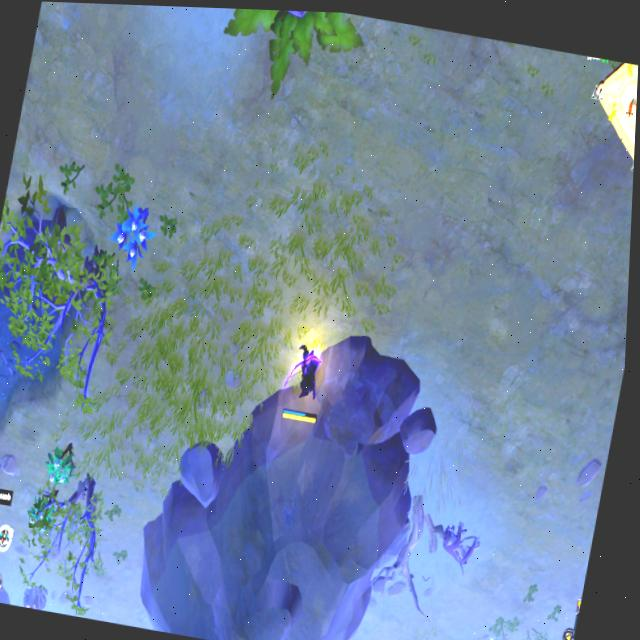hide: (109, 197, 160, 274), (42, 435, 81, 493), (0, 452, 11, 515)
mob: (435, 512, 484, 575)
red: (277, 336, 334, 428)
